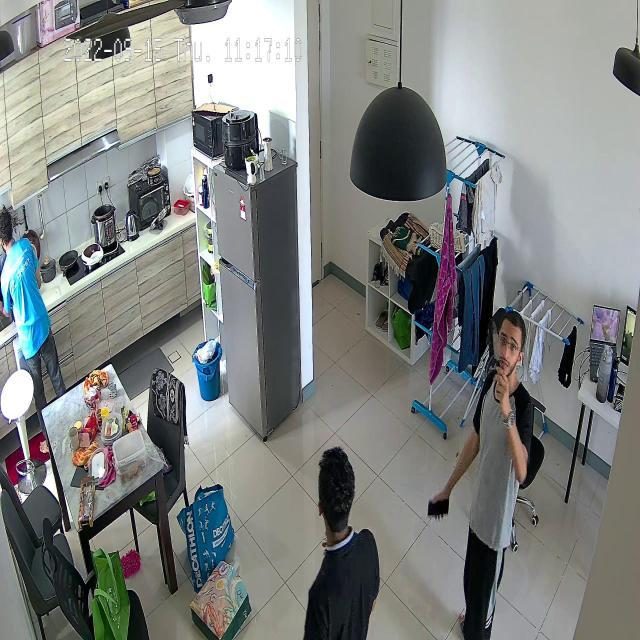Knife: (492, 317, 508, 384)
